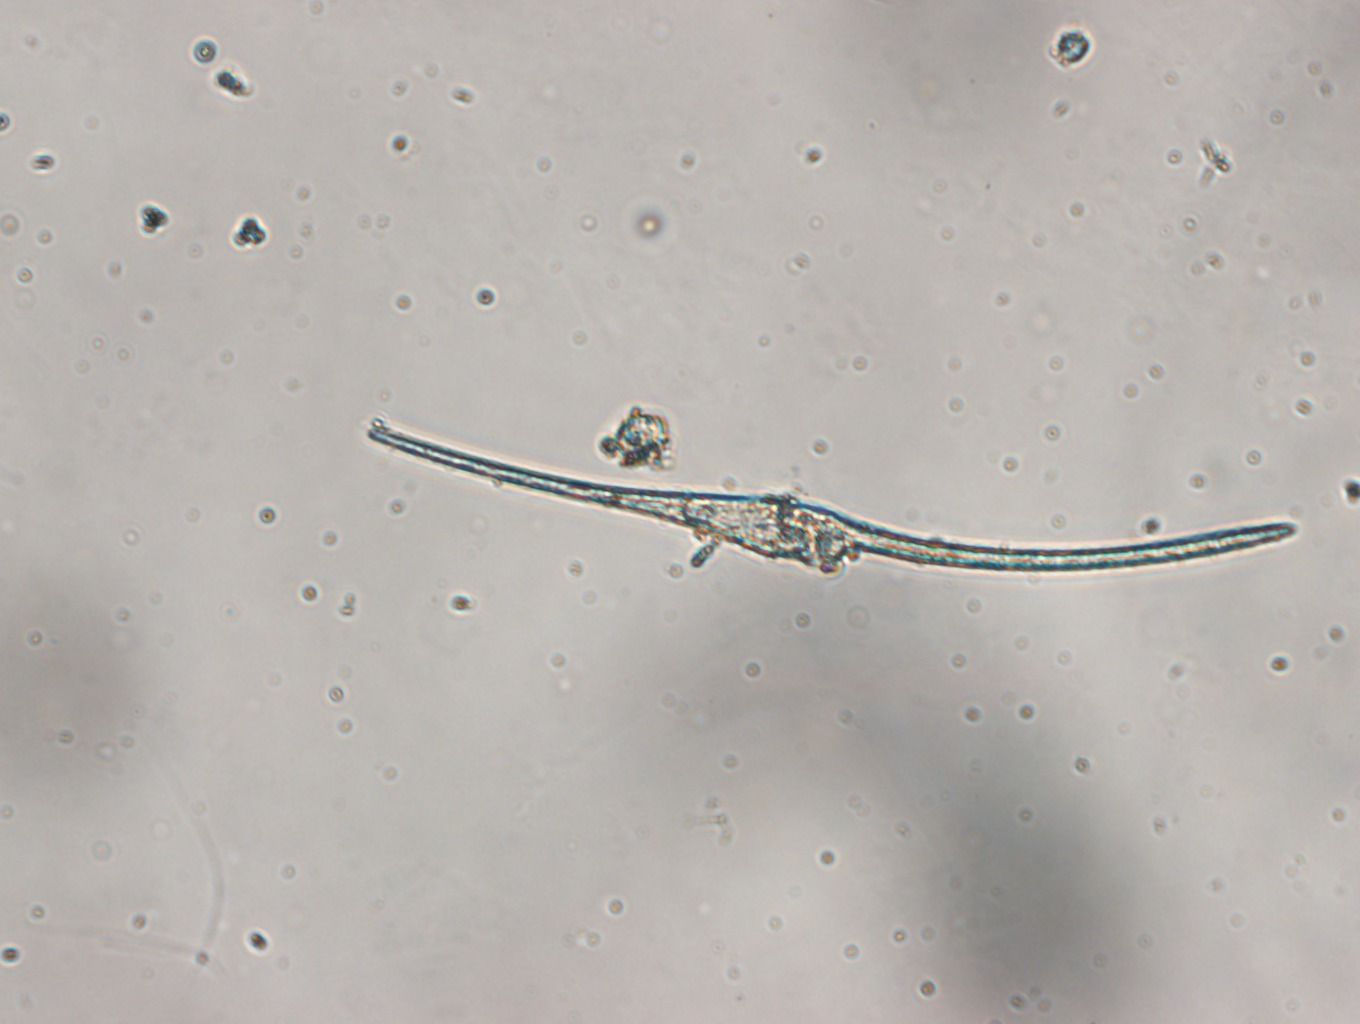ceratium fusus: (367, 411, 1303, 596)
